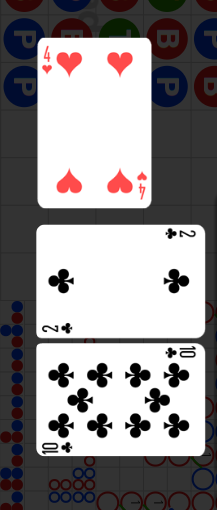10C: (164, 345, 199, 360)
4H: (42, 44, 55, 75), (136, 169, 149, 200)
